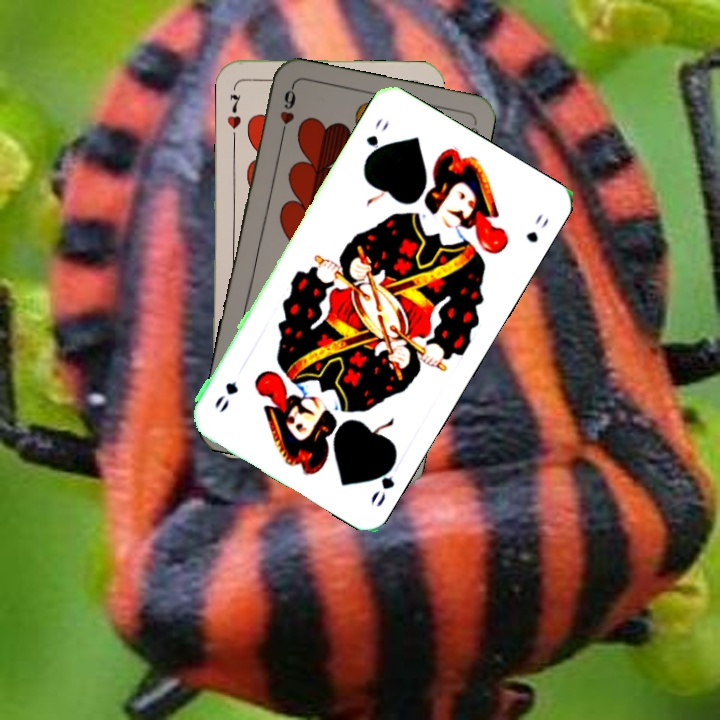GO: (366, 453, 399, 510), (361, 113, 392, 165)
H7: (223, 90, 244, 131)
H9: (276, 83, 298, 141)
